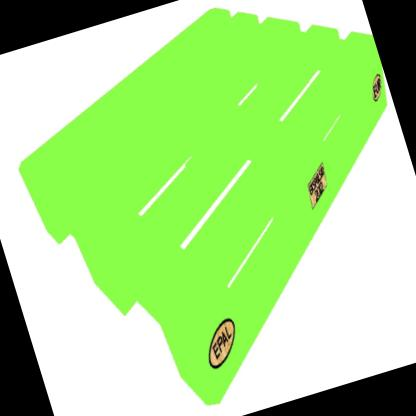BoxFace: (12, 1, 392, 414)
